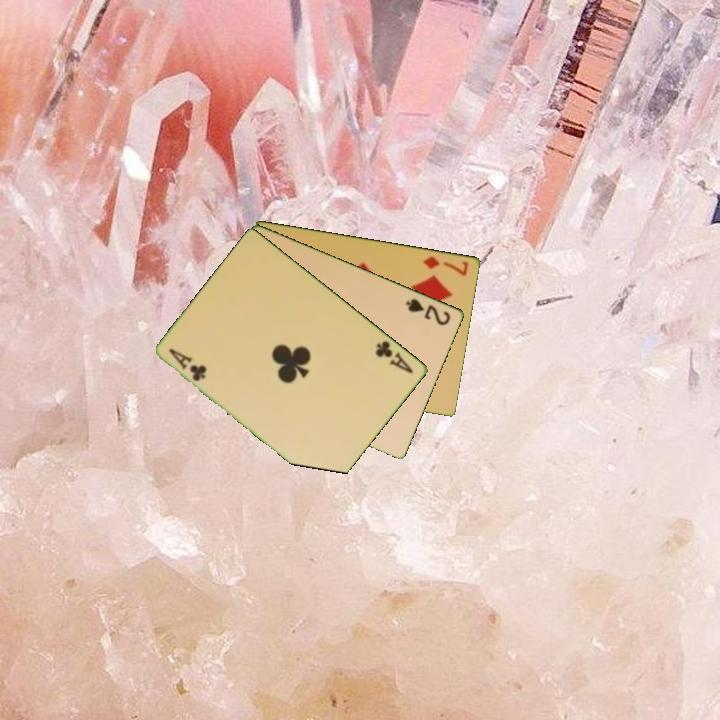2s: (403, 294, 454, 328)
7d: (420, 252, 472, 278)
Ac: (372, 337, 417, 376), (166, 345, 210, 384)
